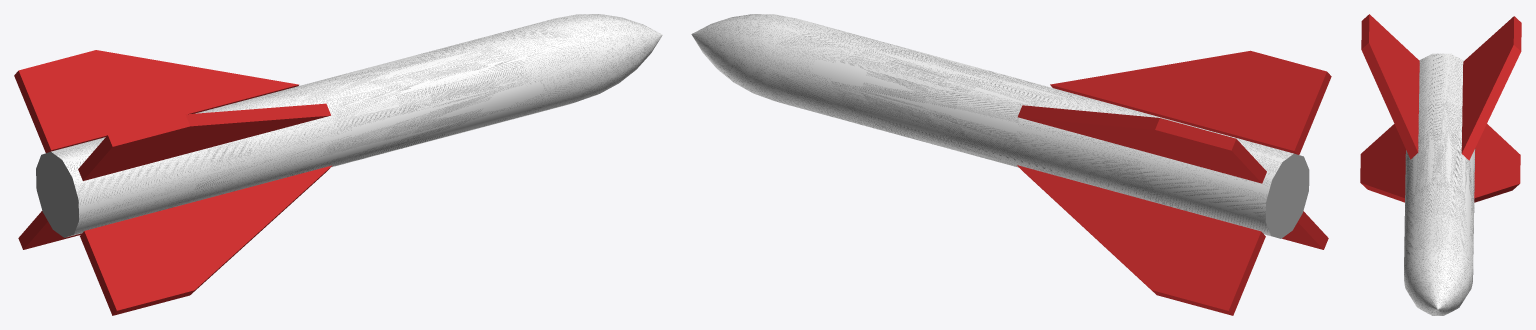
File: missile.dae
3 views of the same model, side by side, from view 1: azimuth 30°, elevation 25°; view 2: azimuth 150°, elevation 25°; view 3: azimuth 270°, elevation 25° (orthographic). The views are drawn at different scales.
Visible parts, largest first — view 1: Rakete (×2), raketenfluegel (×4); view 2: Rakete (×2), raketenfluegel (×4); view 3: Rakete, raketenfluegel (×4).
Boxes of the visible parts, x1,y1,x2,y2 form: Rakete (×2): (36,14,662,237); raketenfluegel (×4): (14,50,332,315); Rakete (×2): (691,14,1309,238); raketenfluegel (×4): (1017,50,1331,315); Rakete: (1404,53,1475,315); raketenfluegel (×4): (1360,14,1521,202).
Size of the model in its own units: 3.07 by 0.8881 by 0.8943.
